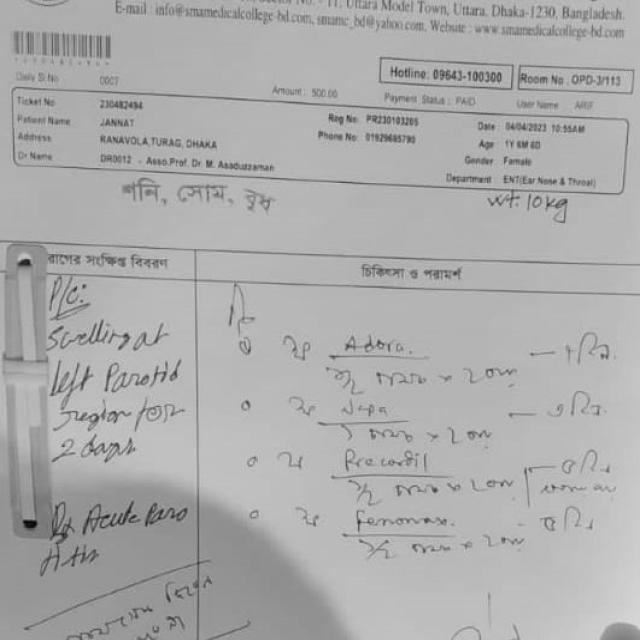medicine: (336, 440, 436, 483), (334, 323, 416, 364), (350, 506, 452, 534), (334, 396, 398, 426)
